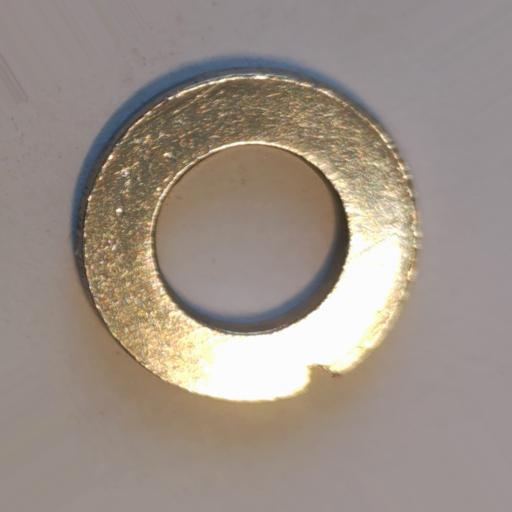burr: (306, 362, 339, 390)
